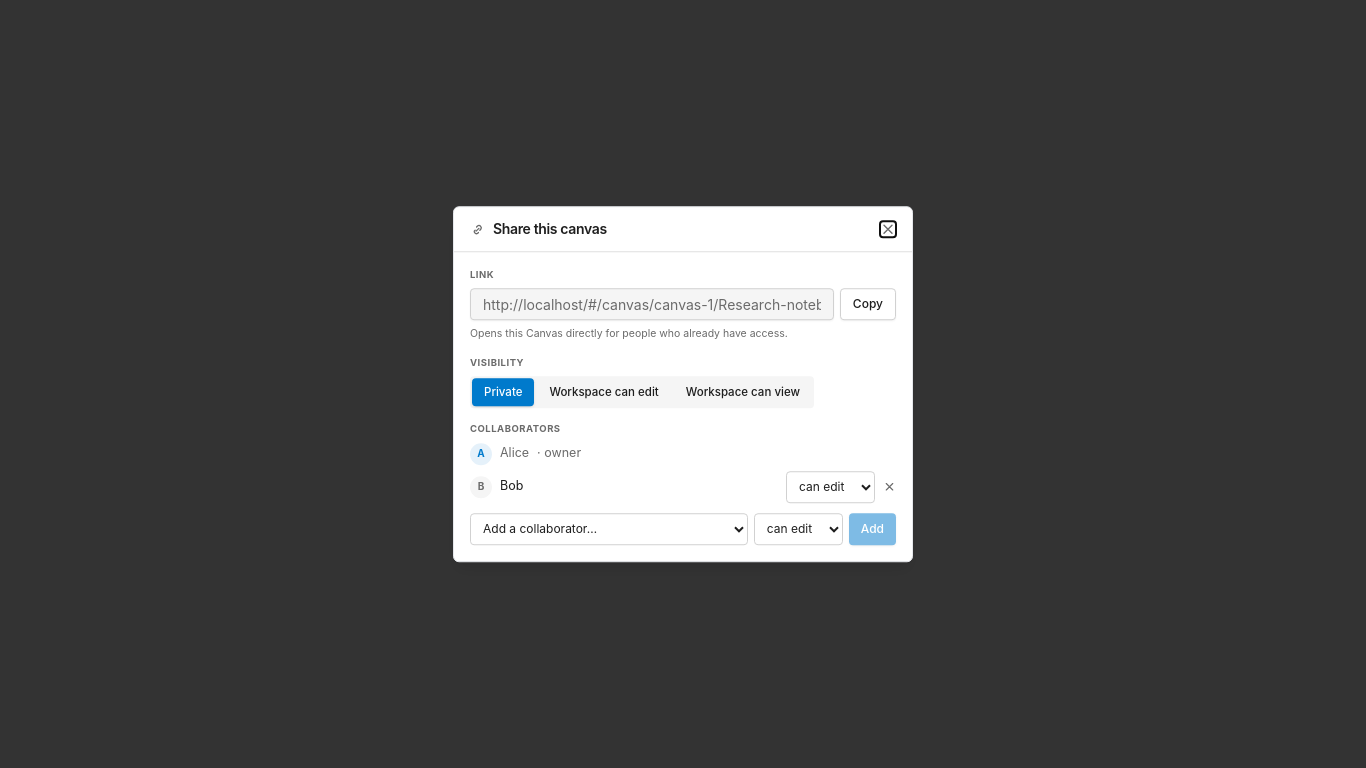
it: ShareModal — server-authoritative sharing truth › leaves the old collaborator role selected after a 401
Step 1. Select "can view" in the dropdown named "Access level for Bob" → (830, 487), box top-left (786, 471), bottom-right (875, 503)
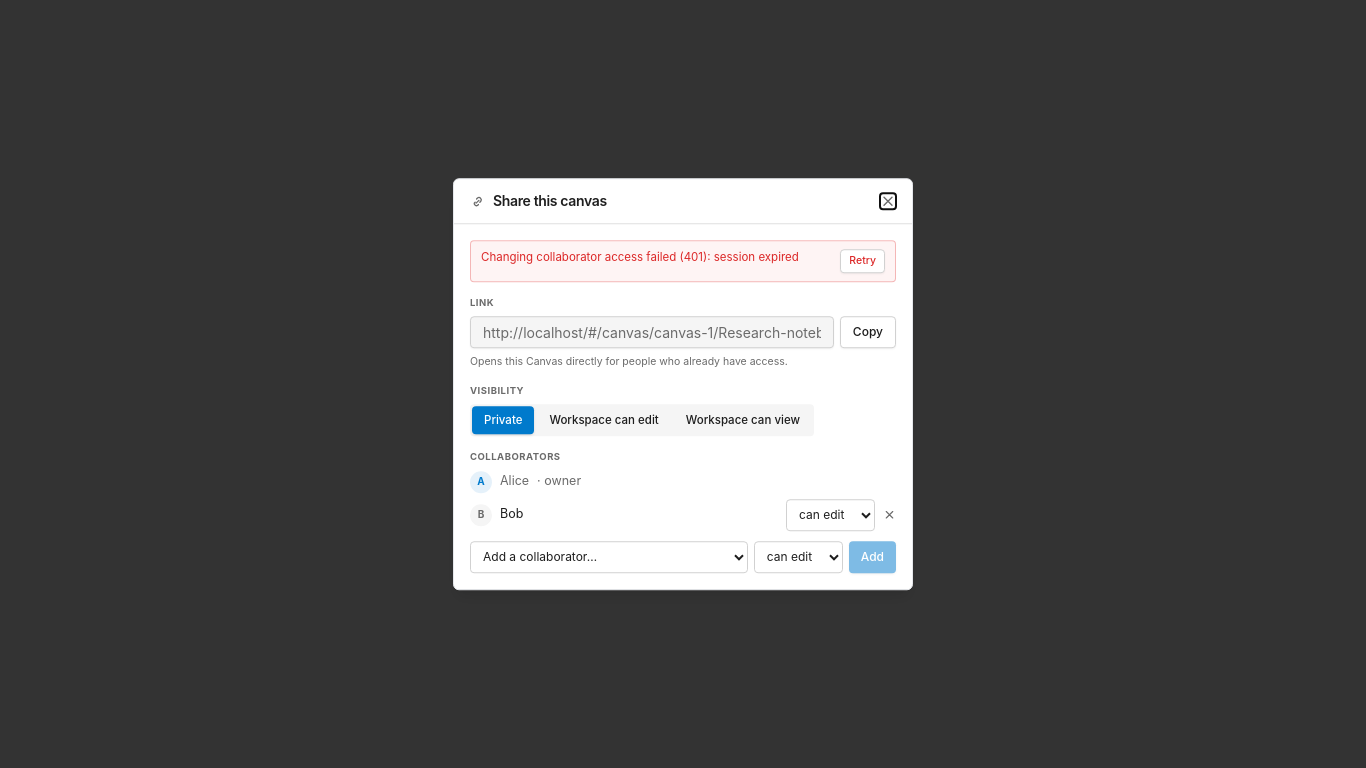
Expected: the message shows "401", top-left (481, 250), bottom-right (799, 264)
